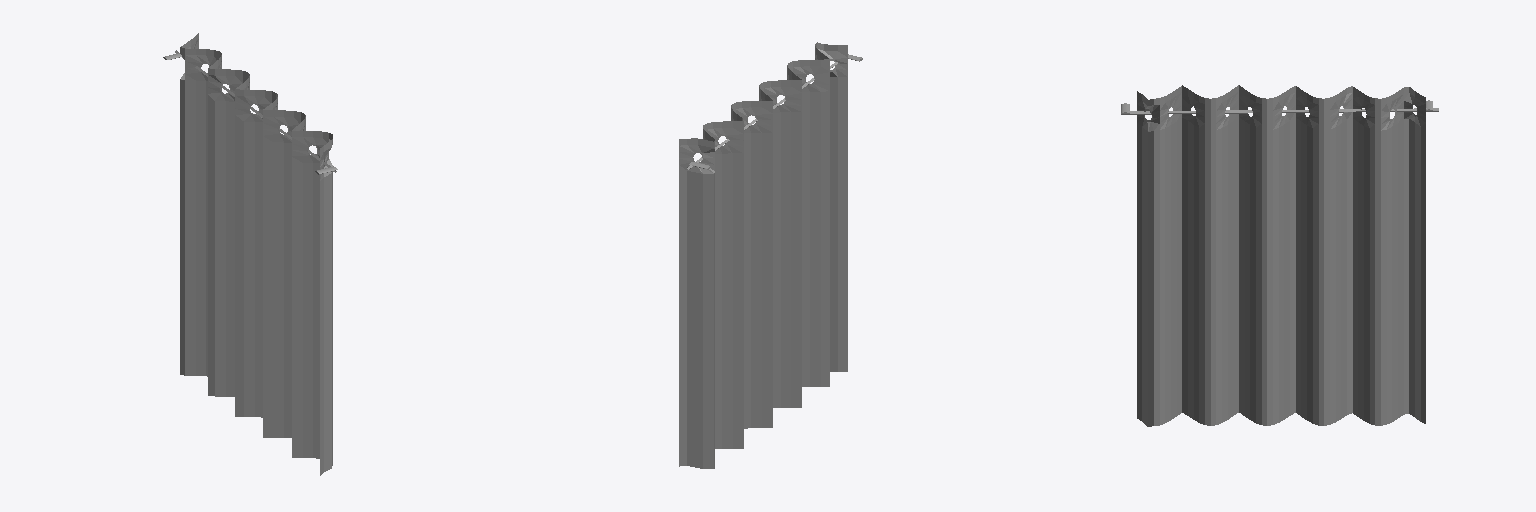
Rendered from 3DCurtain.obj.
3 renders of one model, left to right at view 1: azimuth 30°, elevation 25°; view 2: azimuth 150°, elevation 25°; view 3: azimuth 270°, elevation 25°, orthographic.
Visible parts, largest first — view 1: Curtain_Plane.003; view 2: Curtain_Plane.003; view 3: Curtain_Plane.003, CurtainRod_BezierCurve.001.
Boxes of the visible parts, x1,y1,x2,y2 form: Curtain_Plane.003: [163, 33, 337, 475]; Curtain_Plane.003: [679, 42, 862, 468]; Curtain_Plane.003: [1121, 85, 1432, 426]; CurtainRod_BezierCurve.001: [1121, 108, 1438, 114].
Size of the model in its own units: 1.35 by 13.33 by 11.57.